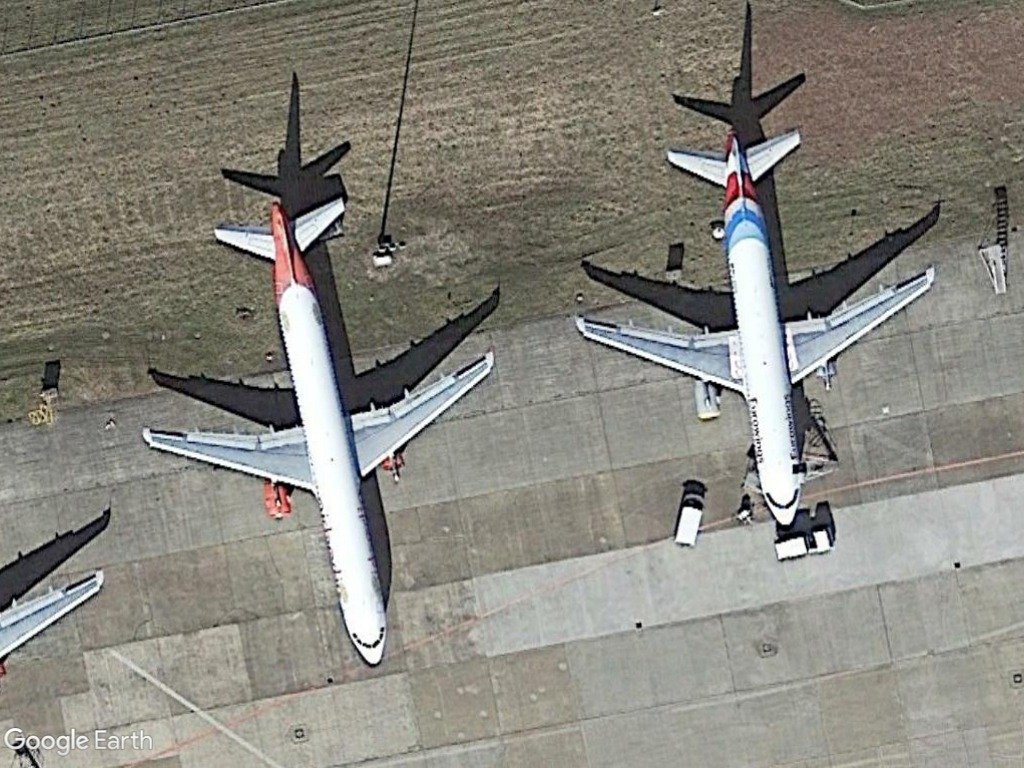airliner: (135, 191, 497, 674), (570, 124, 942, 531)
stairtruck: (975, 242, 1014, 298)
van: (668, 488, 707, 551)
